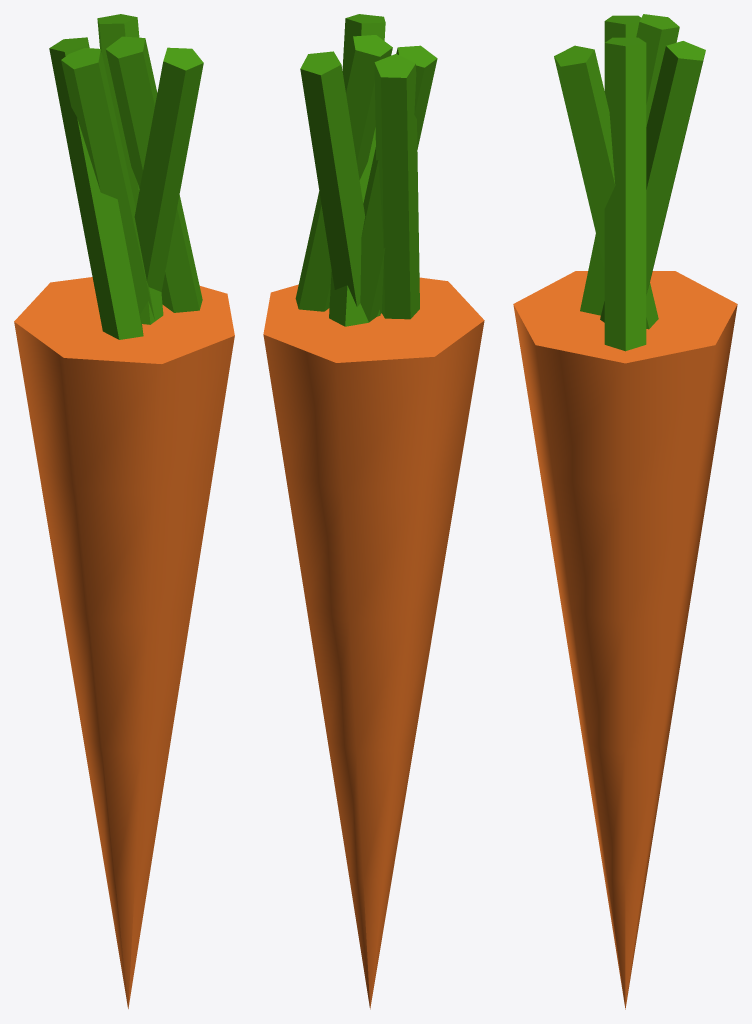
Rendered from Carott.fbx.
3 views of the same model, side by side, from view 1: azimuth 30°, elevation 25°; view 2: azimuth 150°, elevation 25°; view 3: azimuth 270°, elevation 25° (orthographic).
Parts seen in each view (by area): view 1: pCone1, pasted__pCylinder4, pasted__pCylinder2, pasted__pCylinder1, pCylinder1, pasted__pCylinder3; view 2: pCone1, pasted__pCylinder2, pasted__pCylinder3, pCylinder1, pasted__pCylinder1, pasted__pCylinder4; view 3: pCone1, pCylinder1, pasted__pCylinder3, pasted__pCylinder4, pasted__pCylinder2, pasted__pCylinder1.
Part boxes in pixels (x1,y1,x2,y2): pCone1: (14,277,234,1008); pasted__pCylinder4: (134,47,203,291); pasted__pCylinder2: (49,37,143,339); pasted__pCylinder1: (61,48,154,319); pCylinder1: (105,36,202,312); pasted__pCylinder3: (97,14,163,324); pCone1: (263,277,484,1009); pasted__pCylinder2: (374,54,419,319); pasted__pCylinder3: (300,51,380,316); pCylinder1: (295,35,392,311); pasted__pCylinder1: (360,45,437,321); pasted__pCylinder4: (329,14,385,326); pCone1: (513,271,737,1009); pCylinder1: (604,37,646,351); pasted__pCylinder3: (600,41,705,322); pasted__pCylinder4: (554,45,658,329); pasted__pCylinder2: (580,14,679,315); pasted__pCylinder1: (604,15,640,42).
Size of the model in its own units: 19.96 by 97.89 by 20.47.
Materials: 1 (1 with a texture image).
